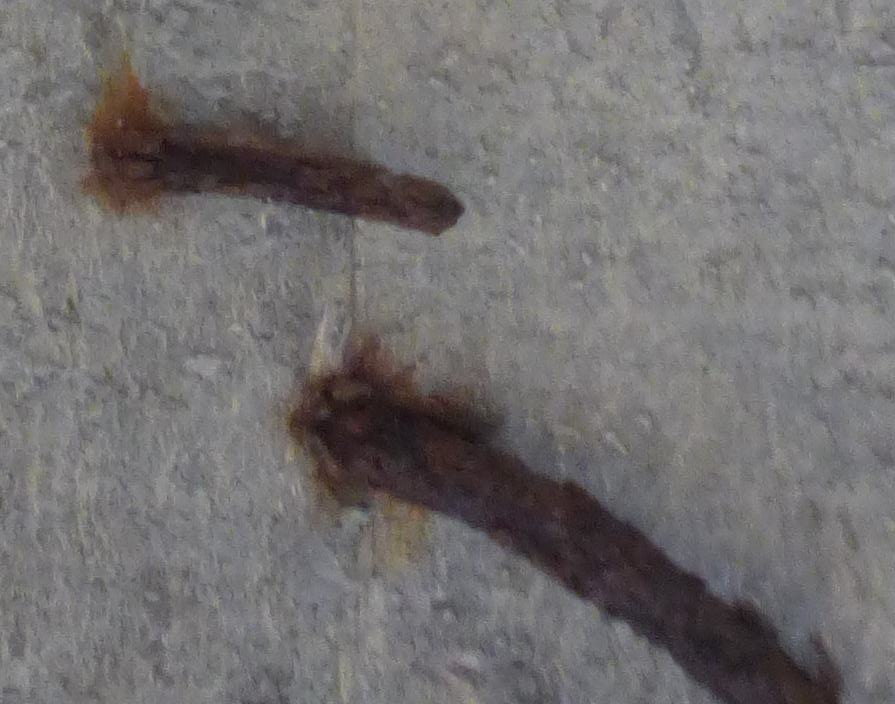Exposed reinforcement: (326, 397, 839, 704), (136, 142, 463, 239)
